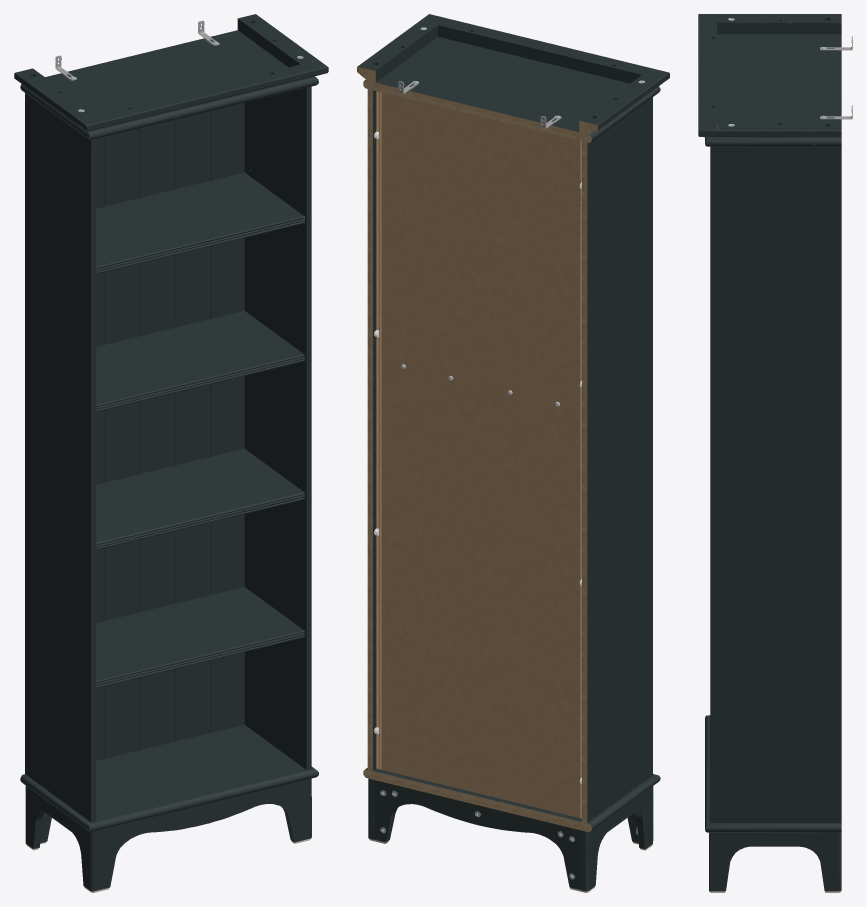
File: LOMMARP bookcase.glb
The picture shows the model from 3 angles, left to right: view 1: azimuth 30°, elevation 25°; view 2: azimuth 150°, elevation 25°; view 3: azimuth 270°, elevation 25°; orthographic projection.
Visible parts, largest first — view 1: 40415465-LOMMARP001; view 2: 40415465-LOMMARP001; view 3: 40415465-LOMMARP001.
Boxes of the visible parts, x1,y1,x2,y2 form: 40415465-LOMMARP001: [14, 14, 328, 892]; 40415465-LOMMARP001: [357, 14, 669, 892]; 40415465-LOMMARP001: [698, 14, 852, 892].
Bounding box in the file's own units: 0.6501 × 1.99 × 0.363.
Materials: 1 (1 with a texture image).
